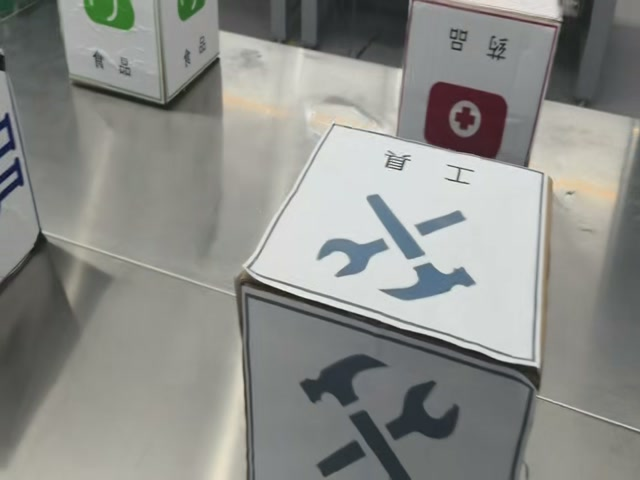Cube_tool: (237, 126, 549, 383)
